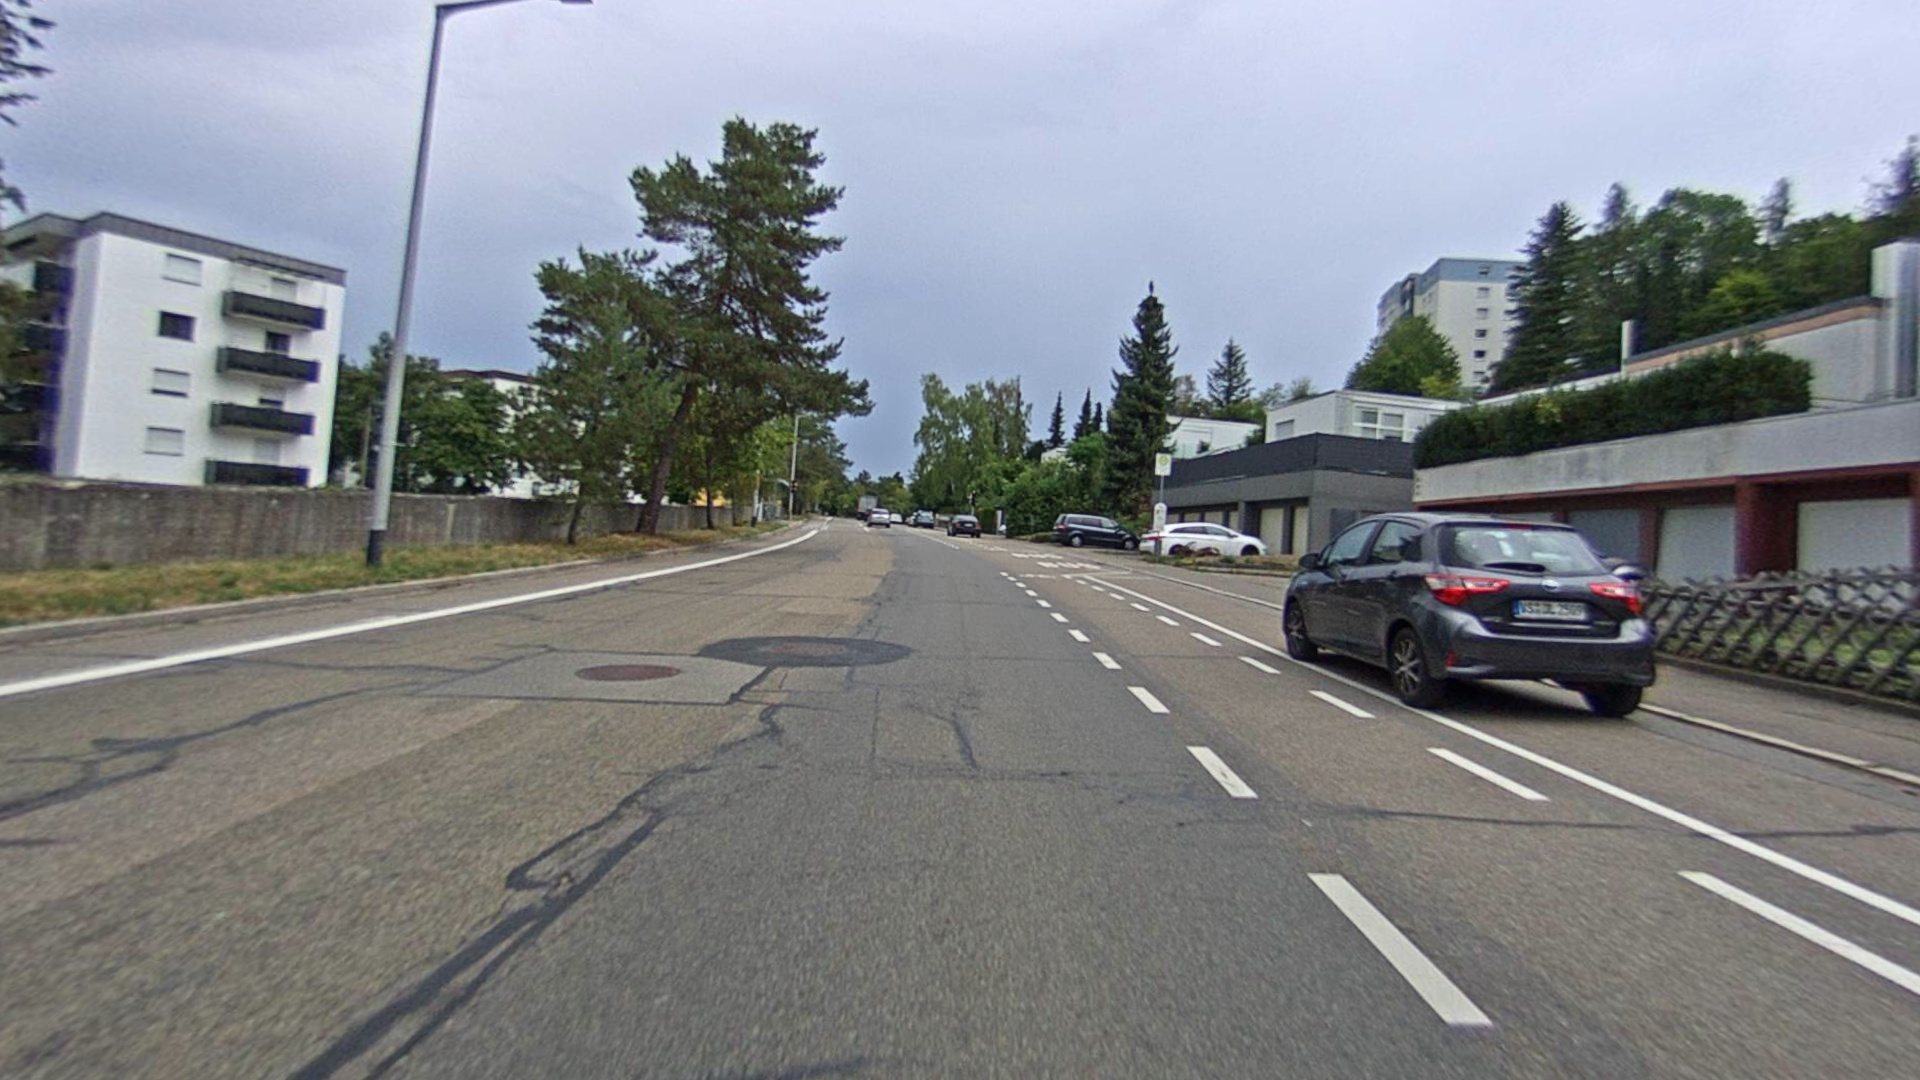car: (1276, 506, 1662, 724)
